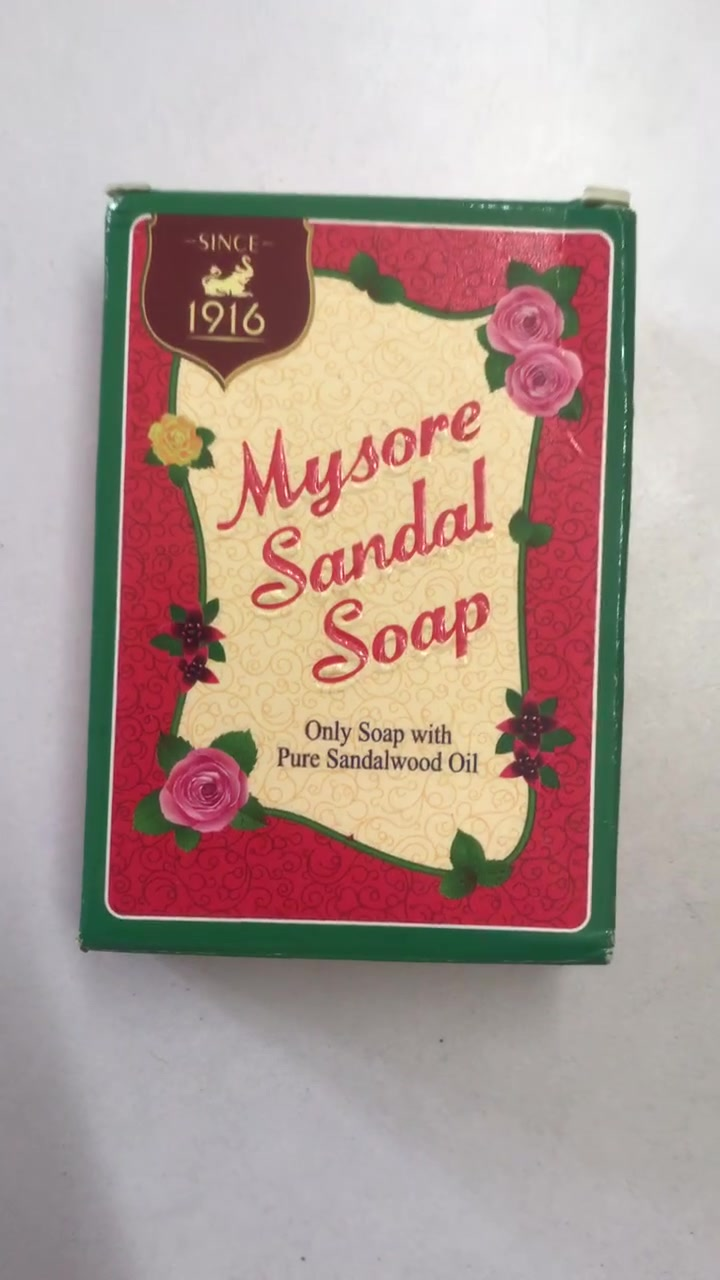mysore sandal soap: (83, 191, 623, 960)
